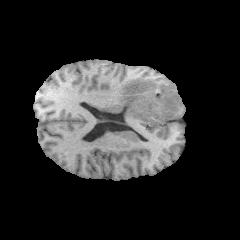glioma: (119, 78, 178, 123)
